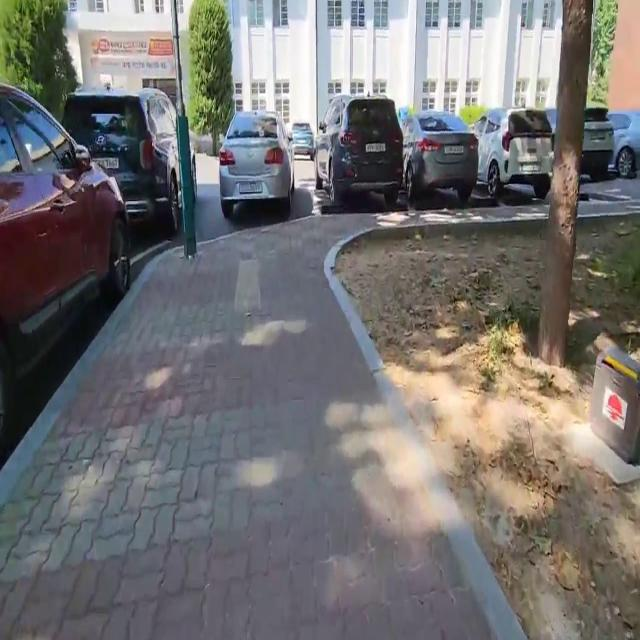car: (0, 78, 138, 485), (61, 67, 198, 244), (314, 91, 403, 233), (215, 94, 302, 226), (399, 100, 482, 219), (474, 102, 562, 214), (286, 106, 319, 166)
